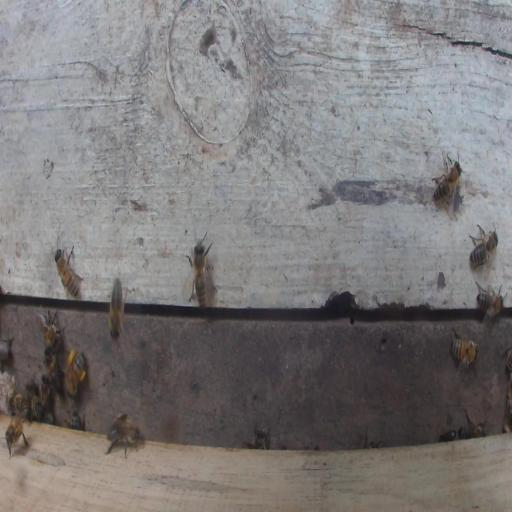nonpollenbee: (105, 411, 142, 460), (54, 244, 84, 299), (432, 155, 462, 207), (469, 222, 498, 269), (450, 327, 479, 369), (475, 281, 504, 320), (5, 416, 29, 459), (109, 275, 124, 342), (193, 243, 207, 311), (44, 347, 63, 394), (39, 313, 61, 351), (463, 409, 486, 438), (245, 426, 269, 449), (9, 392, 30, 416), (31, 397, 47, 421), (0, 337, 14, 363), (40, 375, 51, 406), (501, 346, 512, 373), (437, 427, 457, 441), (71, 409, 81, 430)
pollenbee: (66, 350, 86, 398)
